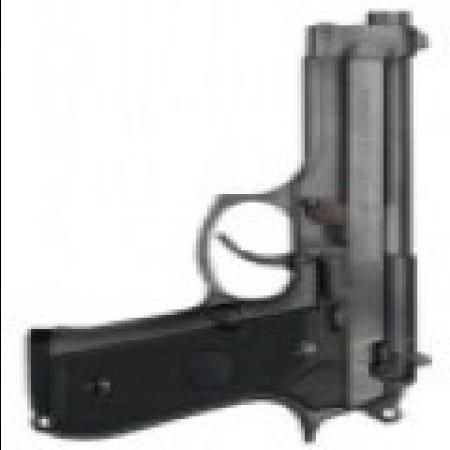Pistol: (30, 3, 435, 436)
